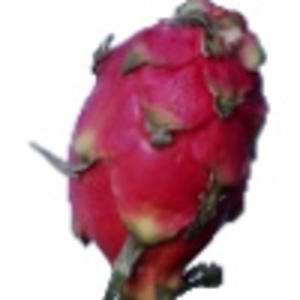pitaia: (34, 1, 271, 300)
